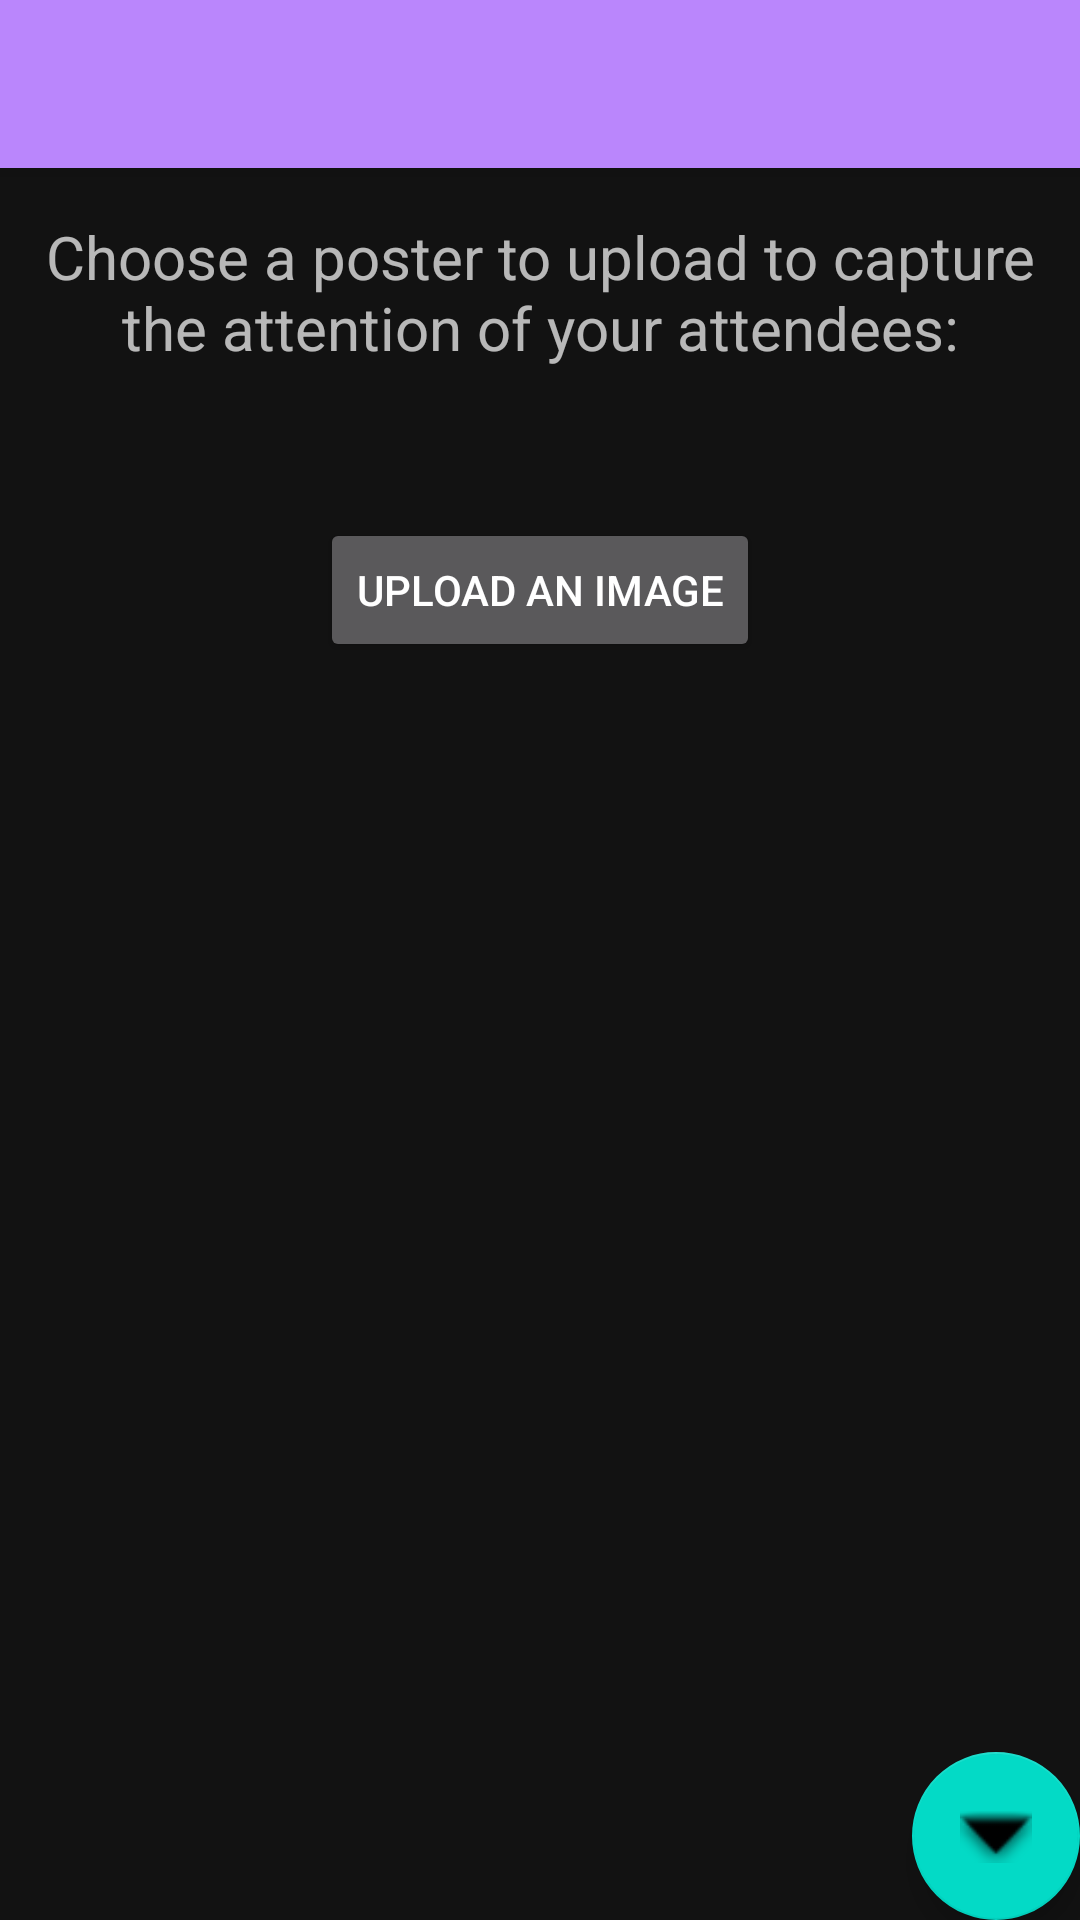

Locate icon controls on the screen. Image size 1080 x 1920, boxes as (x1, y1, x2, y2).
arrow down float: (912, 1752, 1080, 1920)
